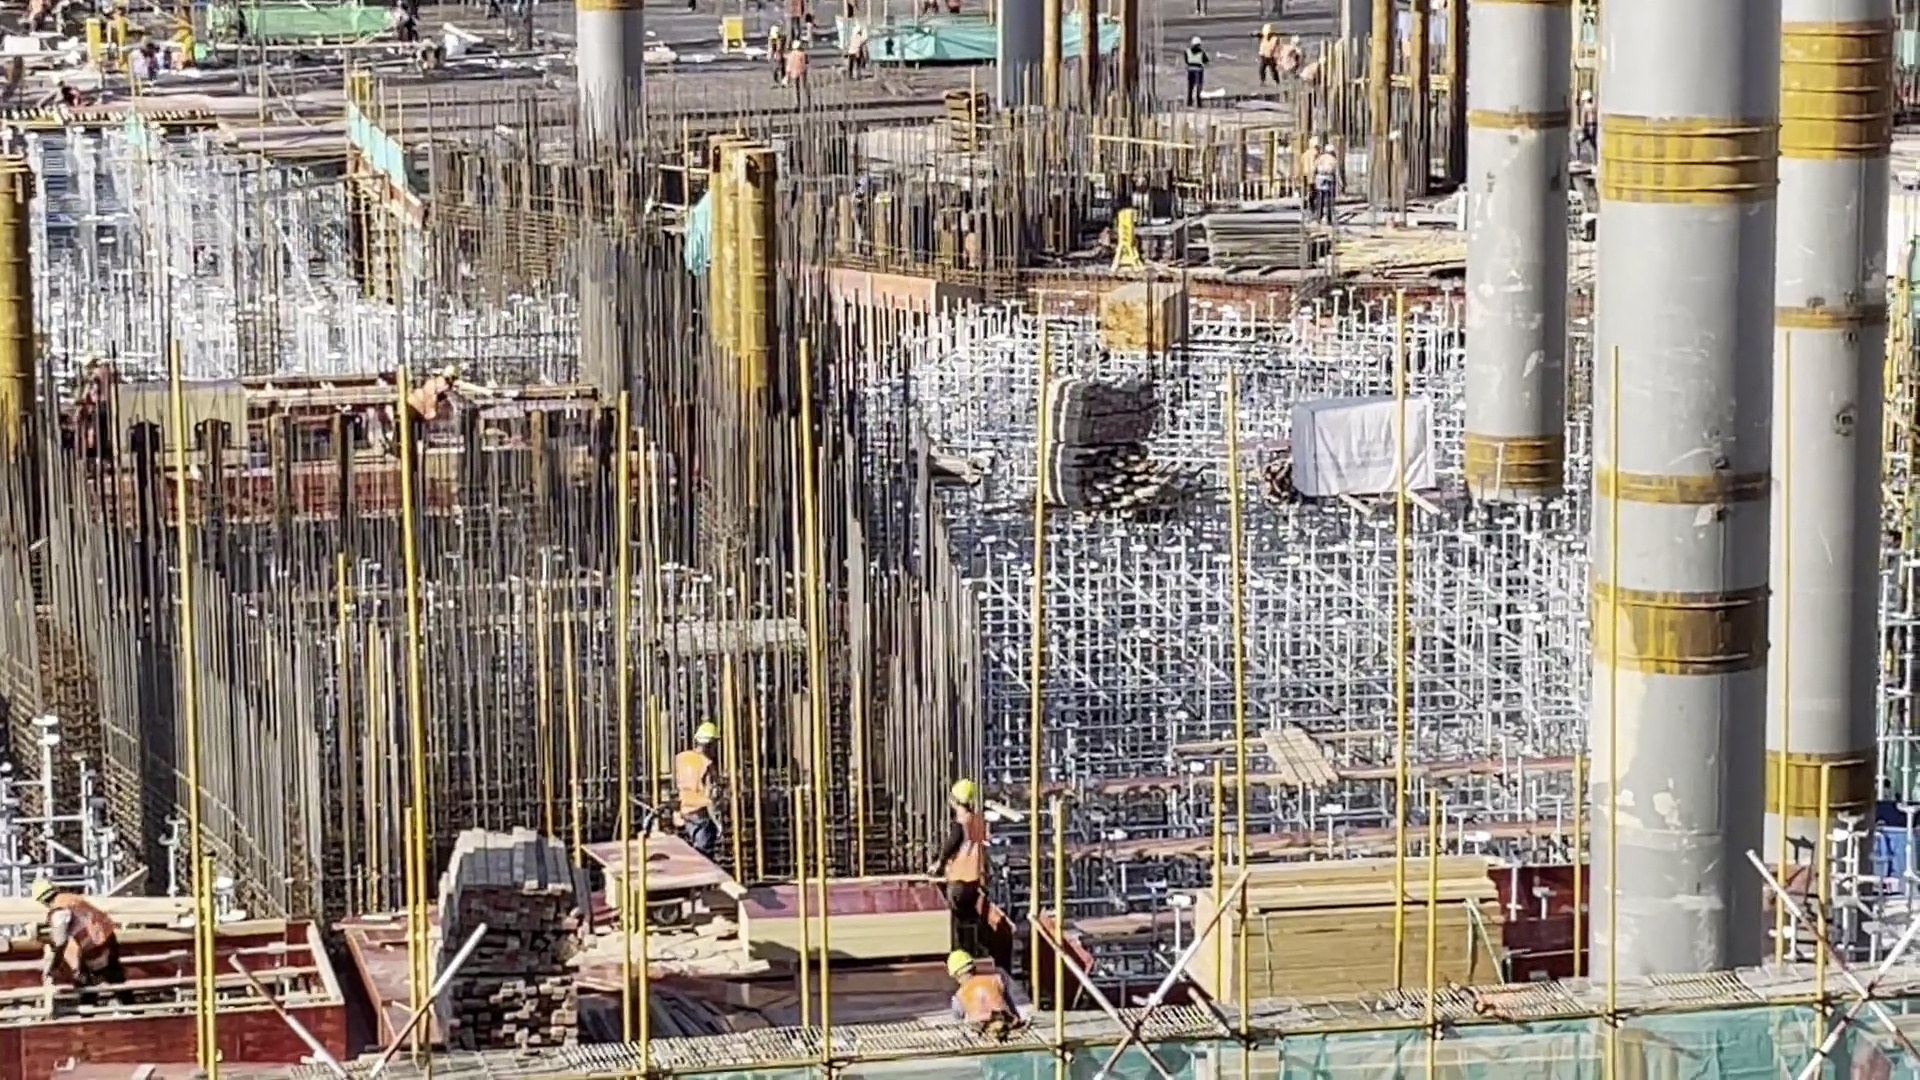board: (776, 852, 969, 942), (1188, 199, 1328, 281)
cutter: (603, 834, 728, 924)
ebox: (1116, 216, 1161, 276), (66, 6, 116, 37), (711, 19, 733, 79)
helmet: (947, 786, 981, 812), (32, 874, 59, 901), (697, 726, 722, 747), (947, 952, 970, 970), (447, 363, 466, 381), (1581, 88, 1595, 107), (87, 350, 102, 367), (1192, 35, 1206, 53), (1263, 24, 1275, 43), (1311, 137, 1327, 149), (53, 78, 67, 89), (1328, 142, 1336, 158), (1294, 33, 1304, 44), (792, 39, 803, 50), (854, 24, 861, 39), (773, 26, 783, 36)
person: (34, 871, 111, 986), (936, 936, 1013, 1041), (656, 720, 713, 845), (931, 778, 978, 931), (404, 350, 479, 443), (86, 343, 119, 448), (1328, 130, 1351, 221), (1576, 92, 1599, 166), (1307, 125, 1325, 212), (791, 45, 813, 106), (1184, 31, 1203, 102), (56, 76, 91, 108), (846, 23, 860, 76), (1287, 33, 1302, 78), (1260, 16, 1271, 73), (773, 30, 785, 81)
vest: (73, 891, 116, 963), (953, 811, 991, 881), (400, 381, 449, 421), (964, 973, 1005, 1019), (685, 755, 711, 811), (1318, 157, 1339, 192), (91, 371, 108, 409), (1303, 144, 1321, 173), (1274, 48, 1301, 66), (787, 56, 807, 79), (1258, 38, 1279, 59), (1583, 108, 1596, 139), (67, 88, 88, 103), (773, 36, 786, 57), (787, 1, 804, 17), (1188, 54, 1203, 72), (851, 40, 862, 54)
wood: (1196, 844, 1511, 1022), (444, 822, 626, 1059)
